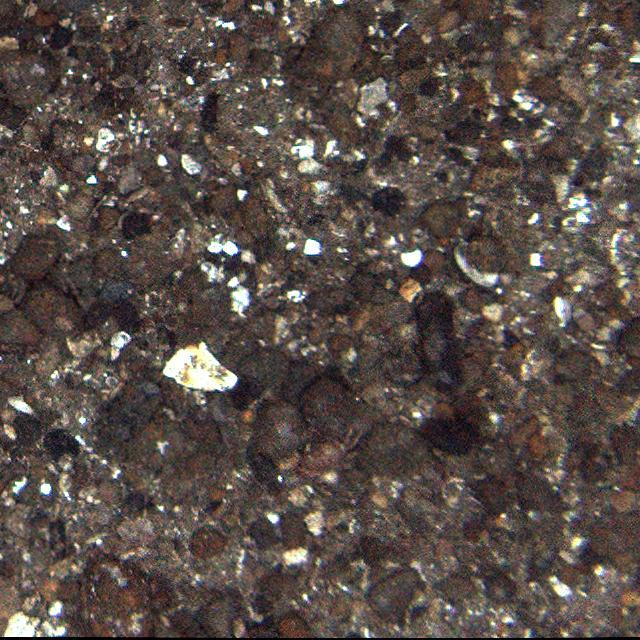crab: (294, 431, 362, 476)
